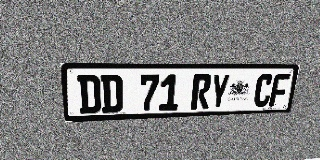1: (159, 74, 180, 111)
7: (139, 74, 159, 112)
C: (253, 74, 274, 107)
D: (77, 75, 101, 114), (101, 75, 123, 113)
F: (269, 74, 290, 106)
R: (191, 74, 212, 110)
Y: (209, 74, 230, 109)
